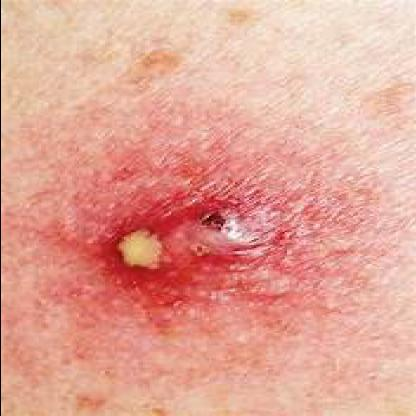Fire ant: (97, 182, 284, 322)
